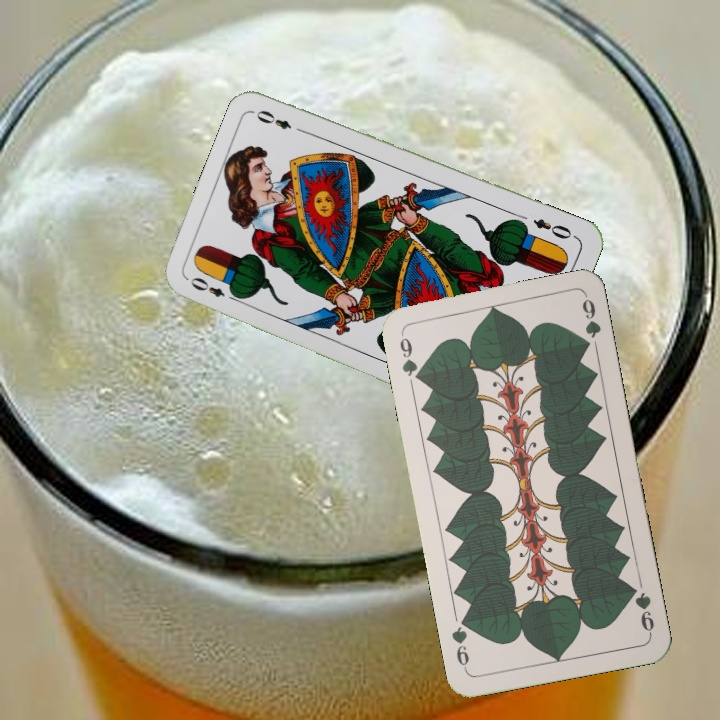EO: (186, 273, 242, 305), (529, 214, 574, 242)
G9: (625, 581, 657, 637), (395, 329, 425, 385)
